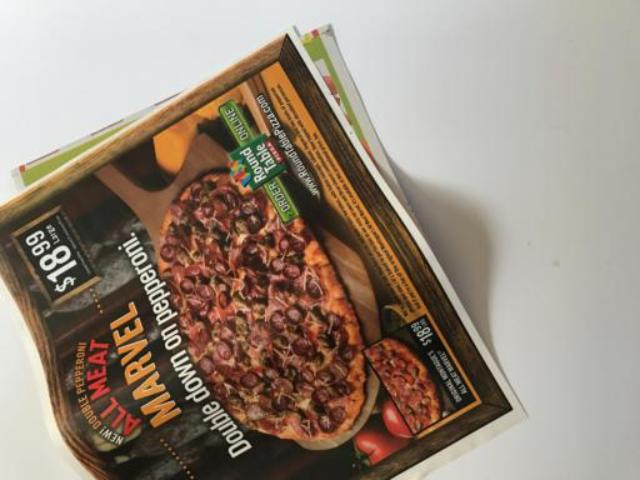cardboard paper: (0, 30, 521, 476)
